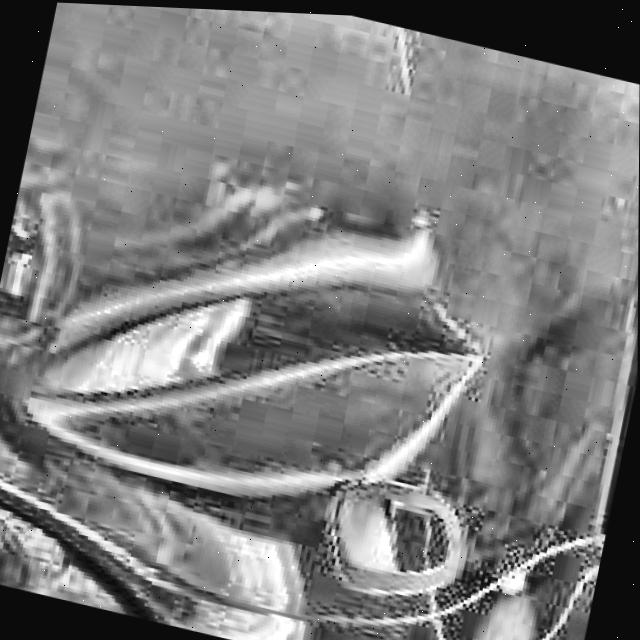door_dent: (24, 167, 497, 550)
